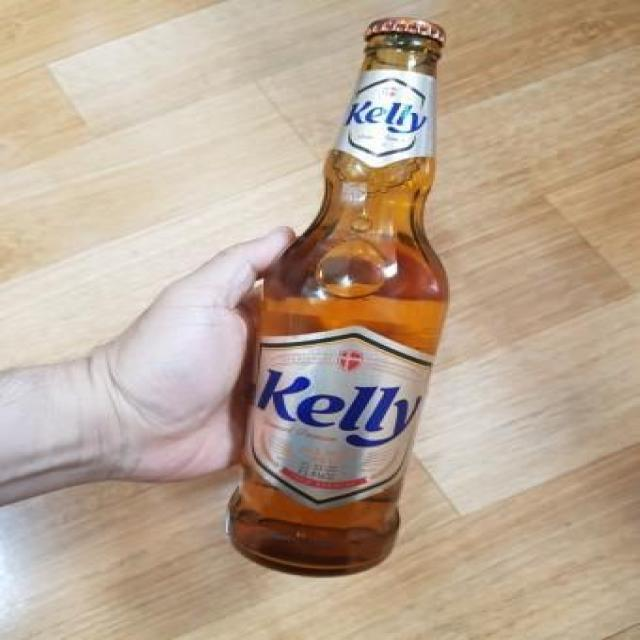beer-bottle: (220, 13, 457, 576)
